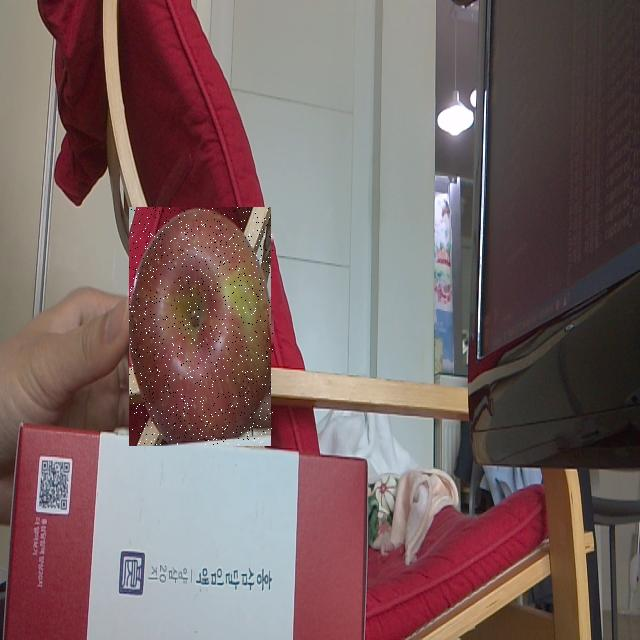apple: (130, 207, 274, 446)
